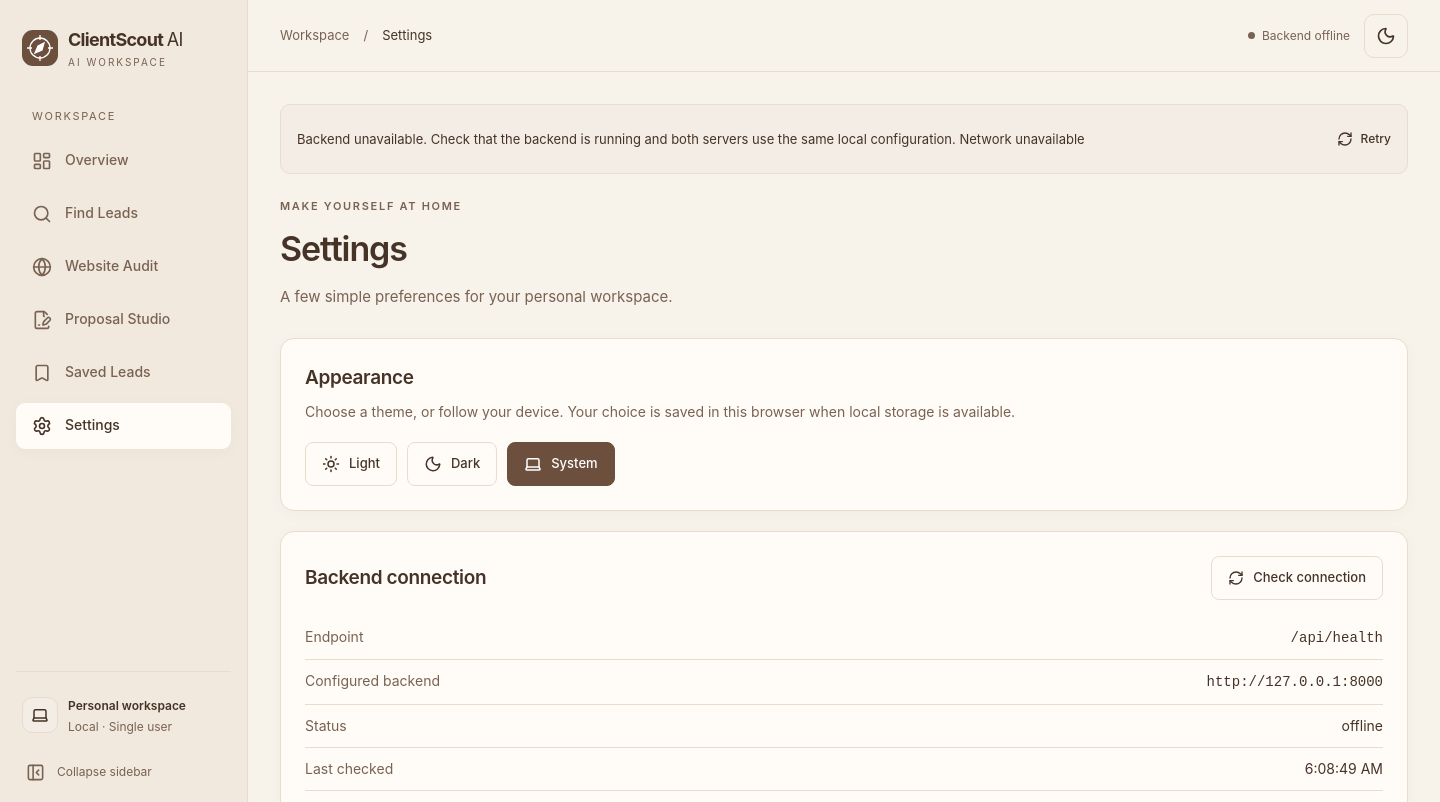
it: workspace foundation › shows network failure and recovers on retry
expect the 2nd message shows "Network unavailable": met, box [959,131,1085,147]
Click the button "Retry" at (1364, 139), box [1336,117,1391,161]
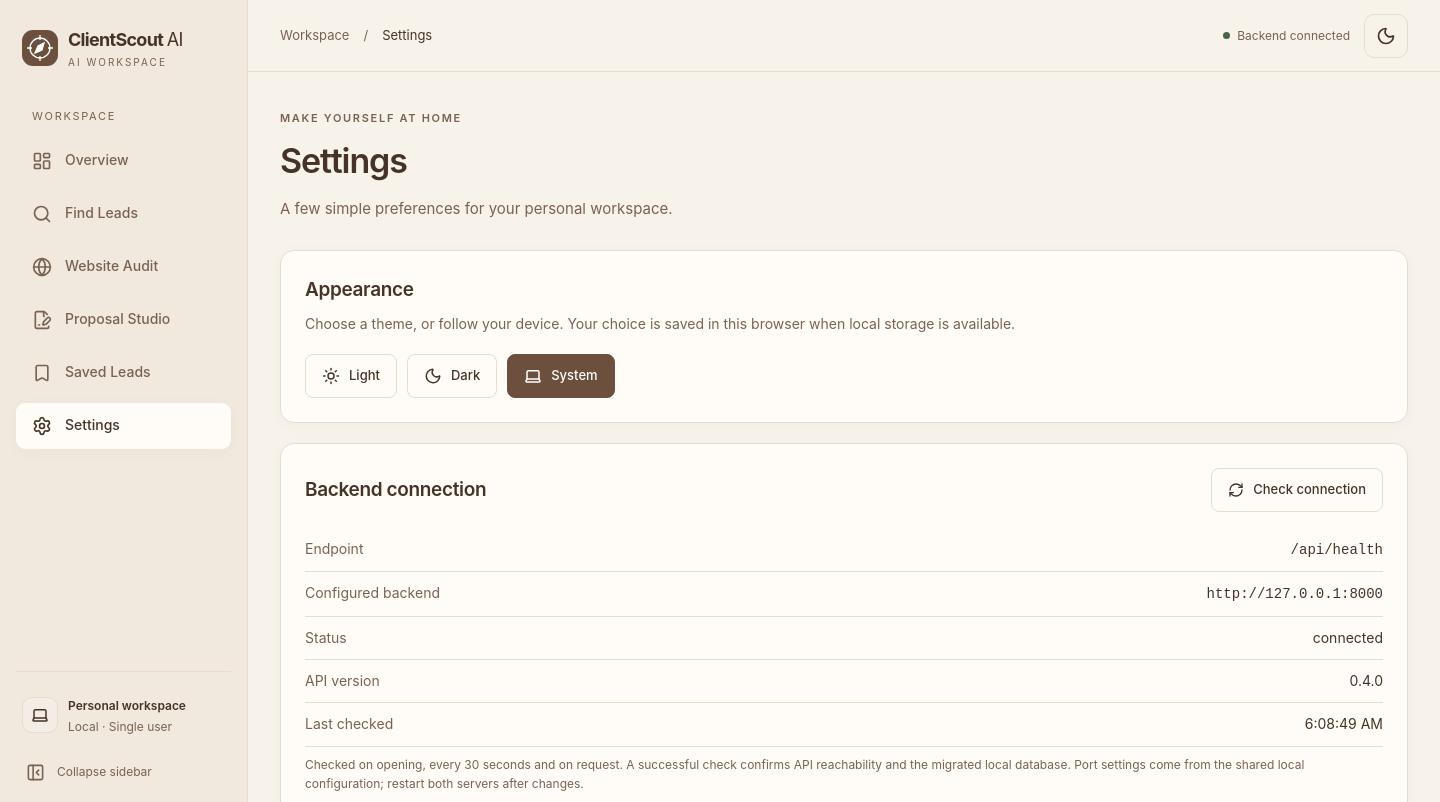
expect the text "Backend connected" is shown: met, box [1223,26,1350,45]
